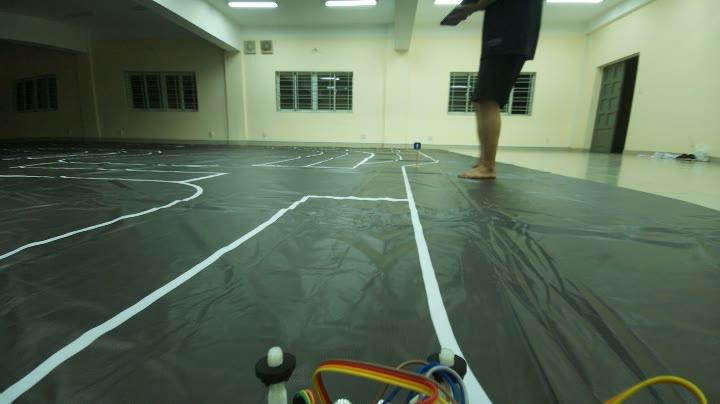onewayroad: (410, 138, 421, 152)
